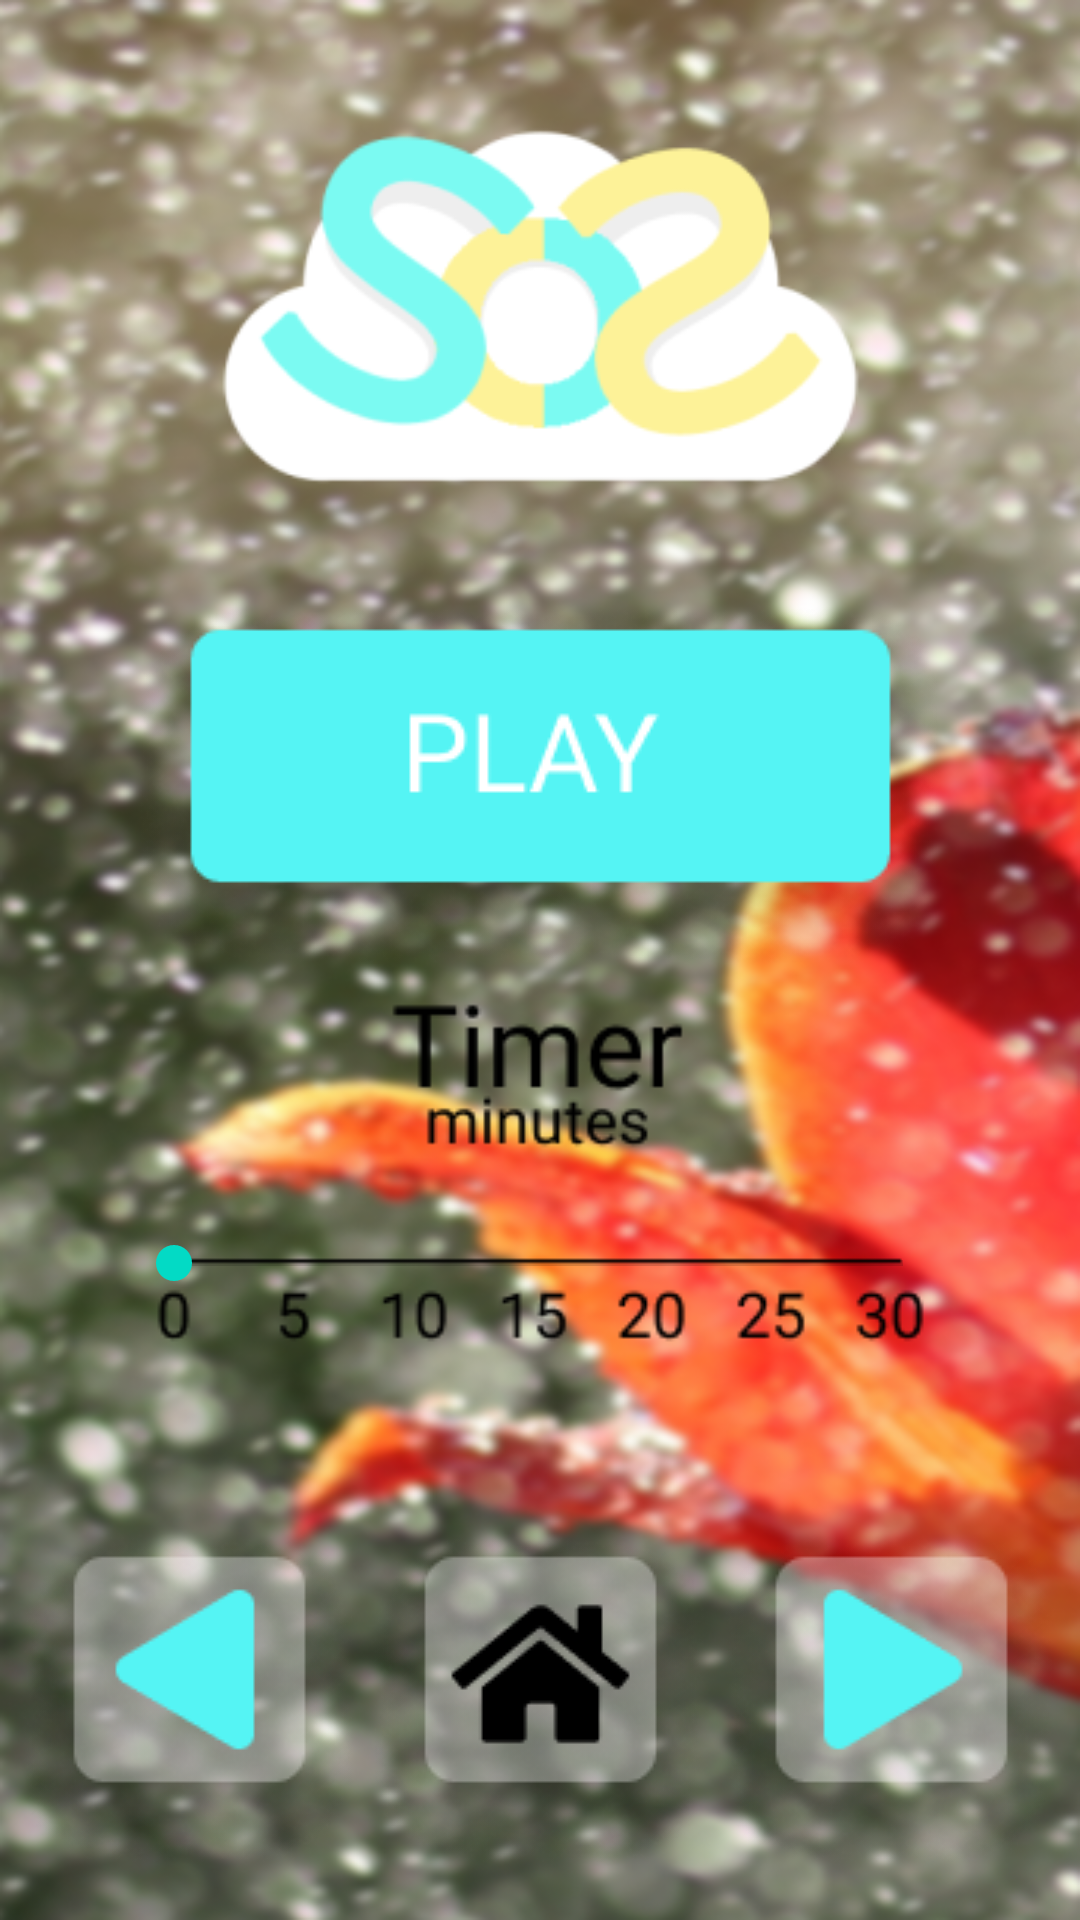

Screen size 1080 × 1920. Icon name, then its center in pixels as (x,y):
homebutton: (540,1699)
nextbutton: (891,1699)
previousbutton: (189,1699)
